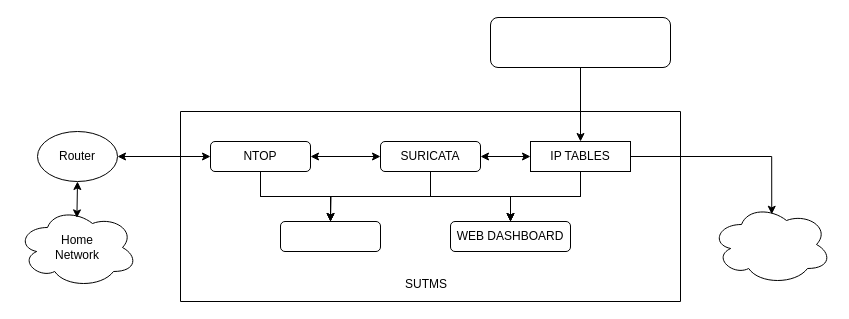
This 849x319 diagram has some shape labels left out. Here are the shapes that lost their labels. From the top down, the centre of each, then its label:
At point (580, 42): "IOC FEED SERVER".
At point (330, 236): "LOGGING".
At point (771, 244): "External Network".
